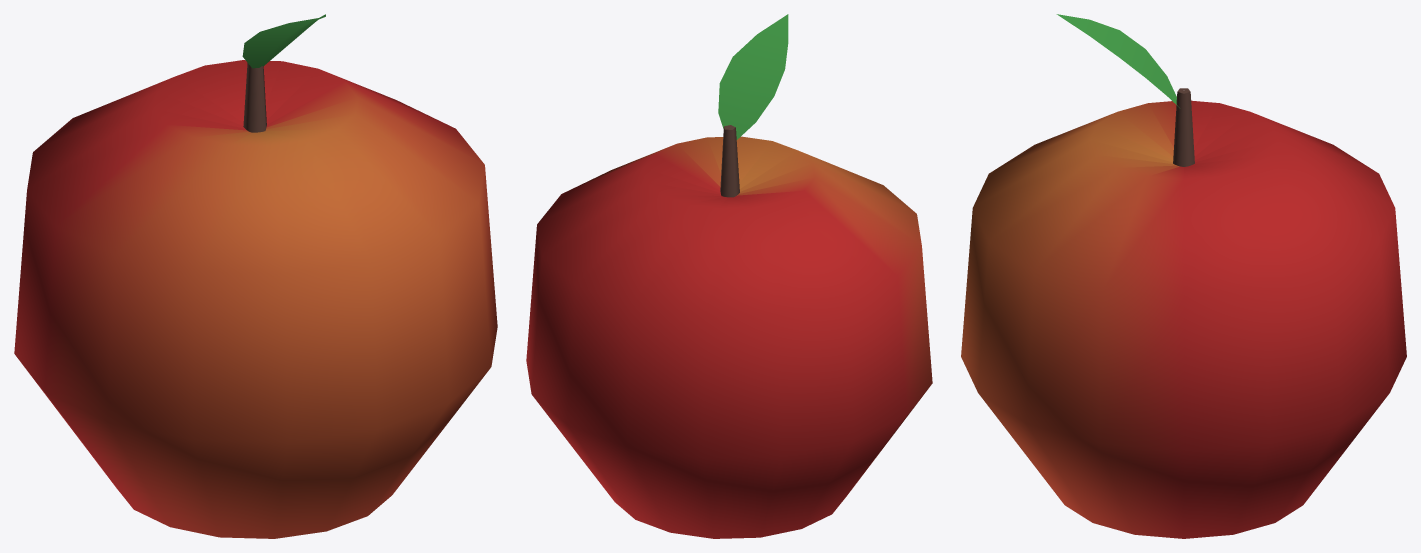
Rendered from fruit-apple-plain.gltf.
3 renders of one model, left to right at view 1: azimuth 30°, elevation 25°; view 2: azimuth 150°, elevation 25°; view 3: azimuth 270°, elevation 25°, orthographic. The views are drawn at different scales.
Bounding box in the file's own units: 0.38 × 0.4523 × 0.38.
